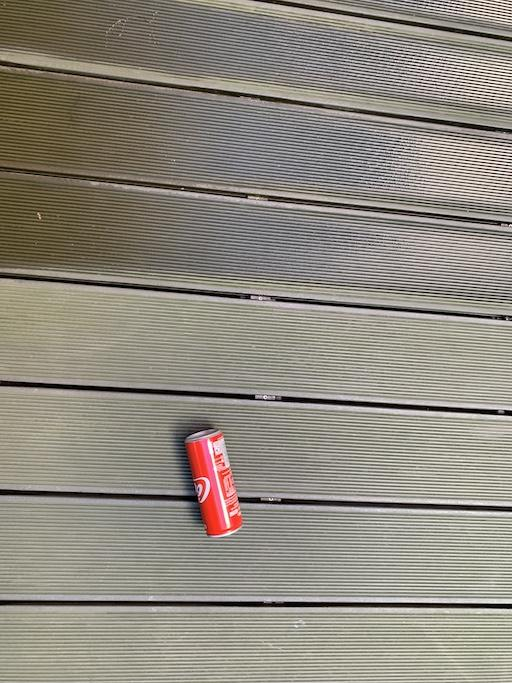Aluminum can: (171, 422, 252, 547)
